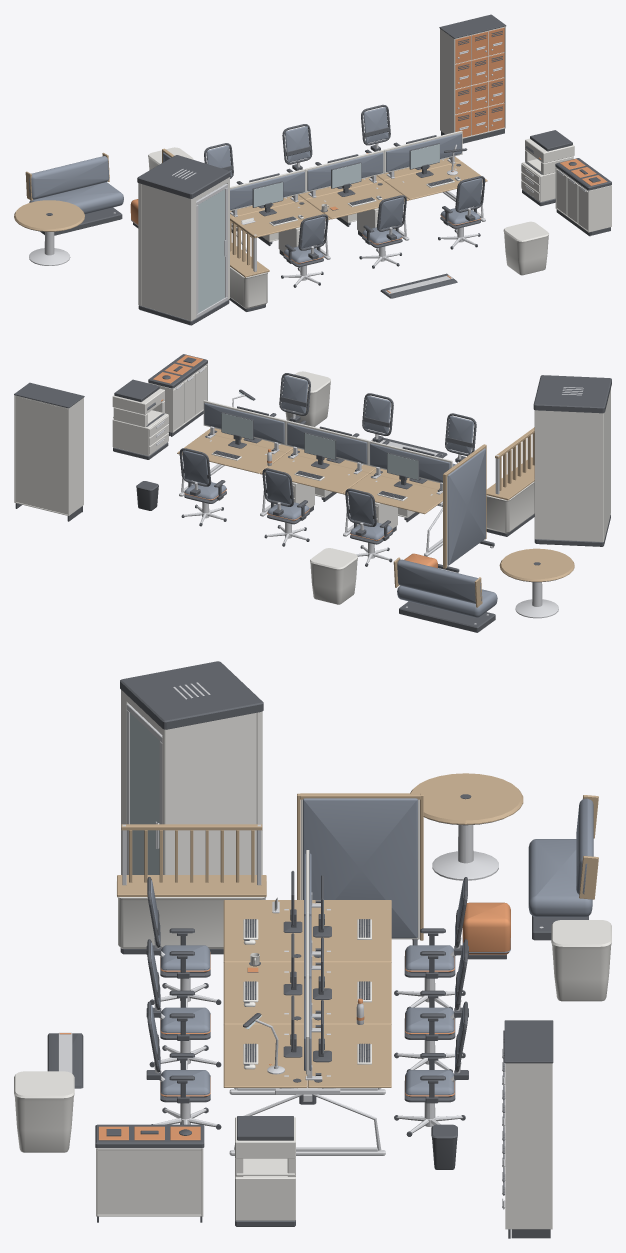
File: downtown-office.glb
3 renders of one model, top to bottom at view 1: azimuth 30°, elevation 25°; view 2: azimuth 150°, elevation 25°; view 3: azimuth 270°, elevation 25°, orthographic. The views are drawn at different scales.
Parts seen in each view (by area): view 1: 034-phone-booth-acoustic/1, 000-bench-desk-6-position-spine/1, 040-soft-bench-modular-with-back/2, 034-phone-booth-acoustic/booth-door/glass, 034-phone-booth-acoustic/0, 035-locker-bank-12/0, 044-floor-planter-large/0, 042-meeting-table-round-4/1, 036-printer-multifunction/1, 039-planter-divider/2, 037-recycling-station-3-stream/0, 039-planter-divider/1 (+29 smaller); view 2: 034-phone-booth-acoustic/1, 035-locker-bank-12/0, 000-bench-desk-6-position-spine/1, 040-soft-bench-modular-with-back/2, 038-acoustic-screen-floor/4, 034-phone-booth-acoustic/0, 036-printer-multifunction/1, 043-floor-planter-large/0, 039-planter-divider/2, 042-meeting-table-round-4/1, 039-planter-divider/1, 040-soft-bench-modular-with-back/0 (+35 smaller); view 3: 000-bench-desk-6-position-spine/1, 034-phone-booth-acoustic/1, 038-acoustic-screen-floor/4, 035-locker-bank-12/0, 037-recycling-station-3-stream/0, 034-phone-booth-acoustic/0, 039-planter-divider/2, 040-soft-bench-modular-with-back/2, 036-printer-multifunction/1, 039-planter-divider/1, 044-floor-planter-large/0, 043-floor-planter-large/0 (+26 smaller).
Part boxes in pixels (box(x1,y1,x2,y2)): 034-phone-booth-acoustic/1: box(138, 177, 229, 321); 000-bench-desk-6-position-spine/1: box(230, 156, 487, 237); 040-soft-bench-modular-with-back/2: box(29, 156, 123, 214); 034-phone-booth-acoustic/booth-door/glass: box(198, 189, 224, 312); 034-phone-booth-acoustic/0: box(137, 155, 230, 325); 035-locker-bank-12/0: box(440, 26, 505, 138); 044-floor-planter-large/0: box(503, 221, 548, 275); 042-meeting-table-round-4/1: box(14, 200, 84, 231); 036-printer-multifunction/1: box(521, 138, 574, 202); 039-planter-divider/2: box(230, 215, 269, 277); 037-recycling-station-3-stream/0: box(555, 167, 611, 232); 039-planter-divider/1: box(230, 267, 268, 308); 034-phone-booth-acoustic/1: box(534, 389, 610, 542); 035-locker-bank-12/0: box(14, 395, 83, 515); 000-bench-desk-6-position-spine/1: box(177, 428, 442, 514); 040-soft-bench-modular-with-back/2: box(397, 559, 497, 617); 038-acoustic-screen-floor/4: box(447, 448, 485, 565); 034-phone-booth-acoustic/0: box(533, 375, 611, 546); 036-printer-multifunction/1: box(112, 388, 168, 455); 043-floor-planter-large/0: box(310, 548, 357, 604); 039-planter-divider/2: box(486, 427, 534, 500); 042-meeting-table-round-4/1: box(499, 548, 574, 581); 039-planter-divider/1: box(486, 481, 534, 533); 040-soft-bench-modular-with-back/0: box(399, 601, 495, 632); 000-bench-desk-6-position-spine/1: box(223, 900, 391, 1087); 034-phone-booth-acoustic/1: box(121, 690, 262, 874); 038-acoustic-screen-floor/4: box(303, 798, 417, 938); 035-locker-bank-12/0: box(505, 1063, 552, 1229); 037-recycling-station-3-stream/0: box(96, 1148, 203, 1216); 034-phone-booth-acoustic/0: box(120, 661, 263, 729); 039-planter-divider/2: box(117, 824, 266, 896); 040-soft-bench-modular-with-back/2: box(528, 798, 593, 917); 036-printer-multifunction/1: box(235, 1117, 295, 1220); 039-planter-divider/1: box(116, 881, 266, 948); 044-floor-planter-large/0: box(14, 1071, 74, 1152); 043-floor-planter-large/0: box(551, 920, 611, 1001).
Size of the model in its own units: 8.92 by 2.26 by 5.68.
